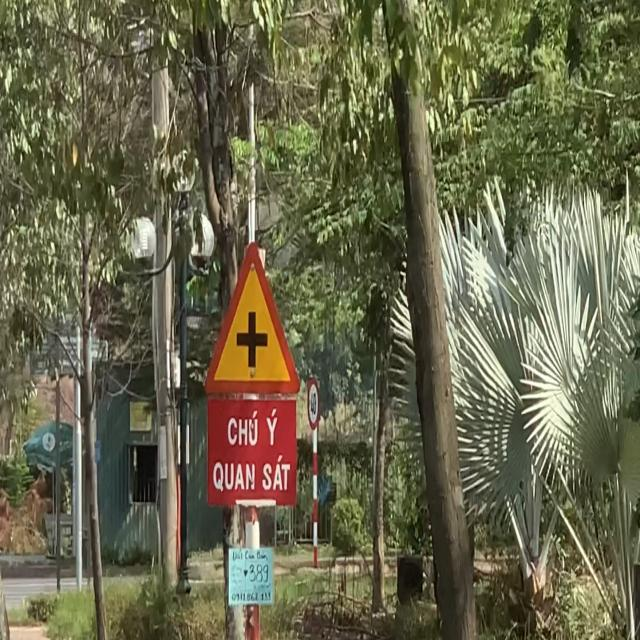Duong giao nhau: (199, 233, 303, 401)
Toc do toi da: (306, 377, 321, 431)
